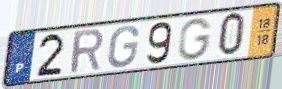0: (217, 11, 248, 60)
2: (36, 32, 66, 79)
9: (145, 20, 174, 65)
G: (177, 17, 214, 62), (106, 25, 141, 70)
R: (69, 27, 106, 76)
